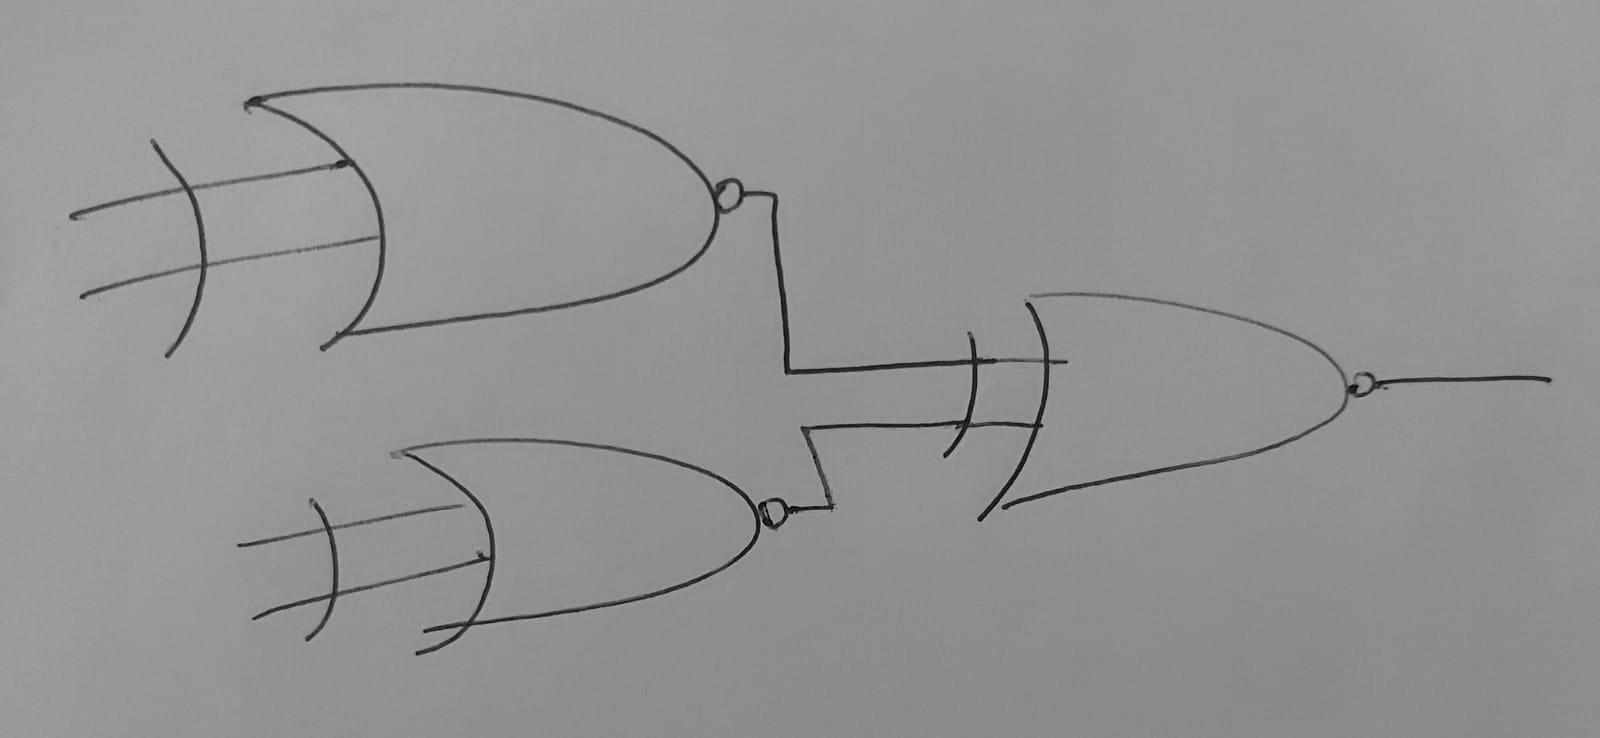XNOR: (89, 73, 760, 374), (230, 419, 823, 661), (930, 255, 1436, 532)
